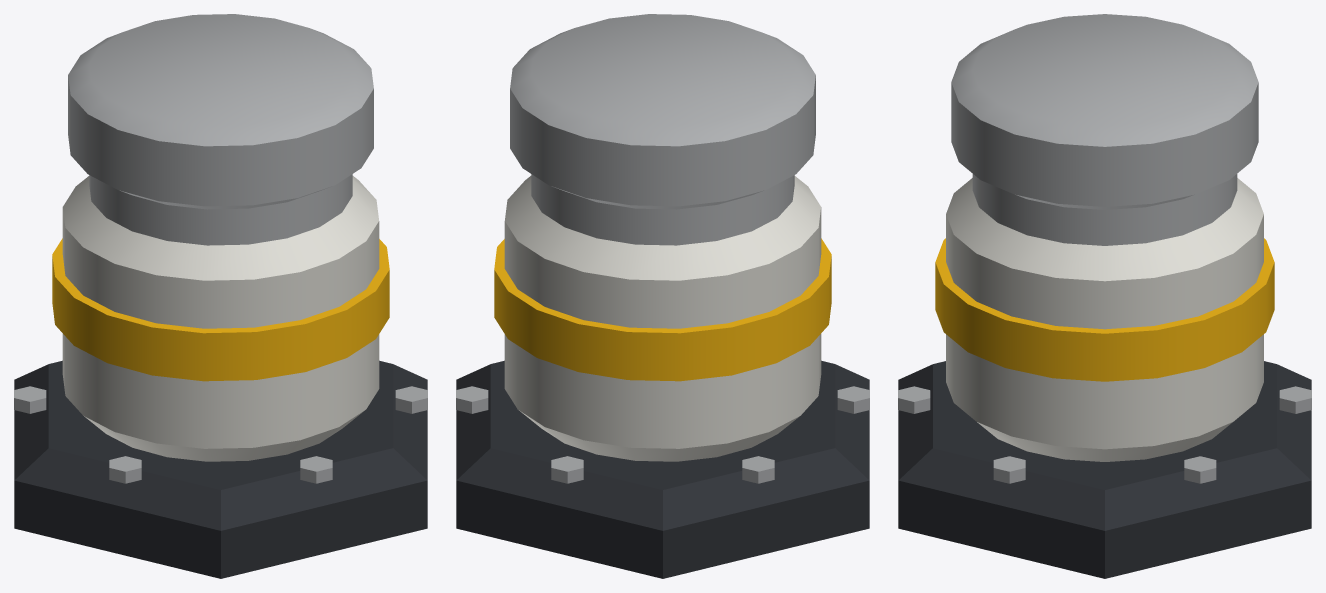
Rendered from fuel_line.glb.
The picture shows the model from 3 angles, left to right: view 1: azimuth 30°, elevation 25°; view 2: azimuth 150°, elevation 25°; view 3: azimuth 270°, elevation 25°; orthographic projection.
Visible parts, largest first — view 1: Stub, Body, Flange, Collar, Bolts.001; view 2: Stub, Body, Flange, Collar, Bolts.001; view 3: Stub, Body, Flange, Collar, Bolts.001.
Part boxes in pixels (left/top/right/bottom): Stub: left=68, top=14, right=373, bottom=245; Body: left=62, top=176, right=379, bottom=461; Flange: left=14, top=360, right=427, bottom=578; Collar: left=52, top=238, right=389, bottom=381; Bolts.001: left=14, top=386, right=427, bottom=483; Stub: left=510, top=14, right=815, bottom=245; Body: left=504, top=176, right=821, bottom=461; Flange: left=456, top=360, right=869, bottom=578; Collar: left=494, top=238, right=831, bottom=381; Bolts.001: left=456, top=386, right=869, bottom=483; Stub: left=951, top=14, right=1258, bottom=245; Body: left=946, top=178, right=1263, bottom=461; Flange: left=898, top=361, right=1311, bottom=578; Collar: left=935, top=238, right=1274, bottom=381; Bolts.001: left=898, top=386, right=1311, bottom=483.
Size of the model in its own units: 0.18 by 0.17 by 0.1561.
